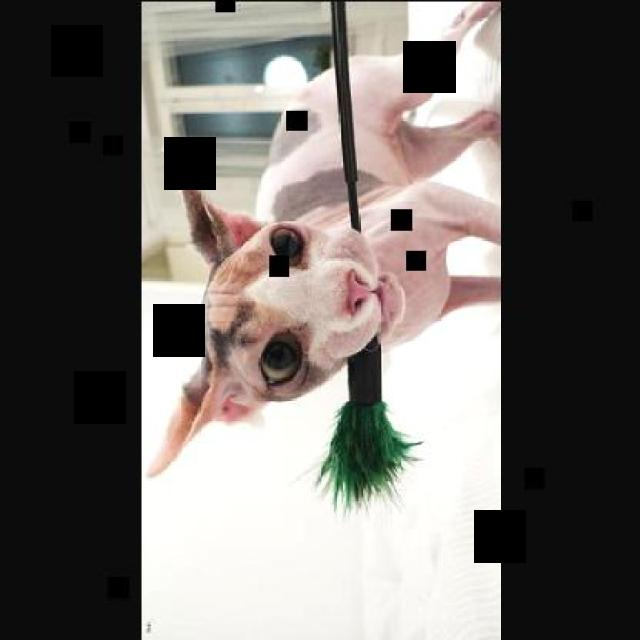unauthorized: (145, 0, 500, 485)
